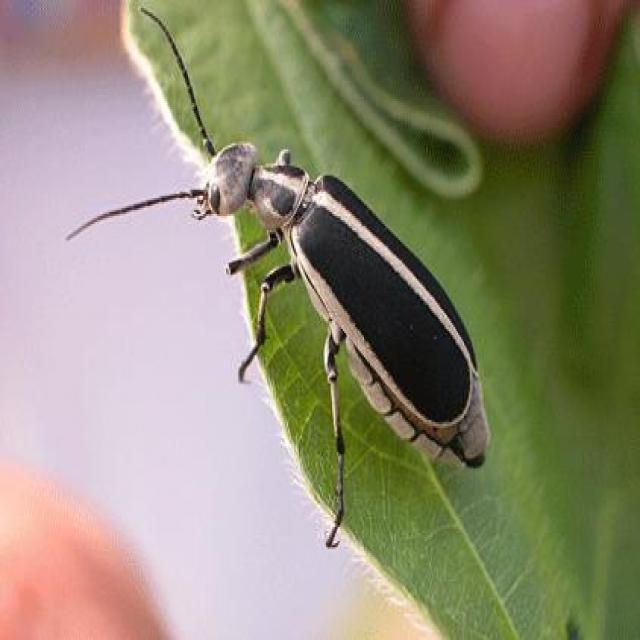BlisterBeetle-Adult-: (128, 1, 486, 472)
